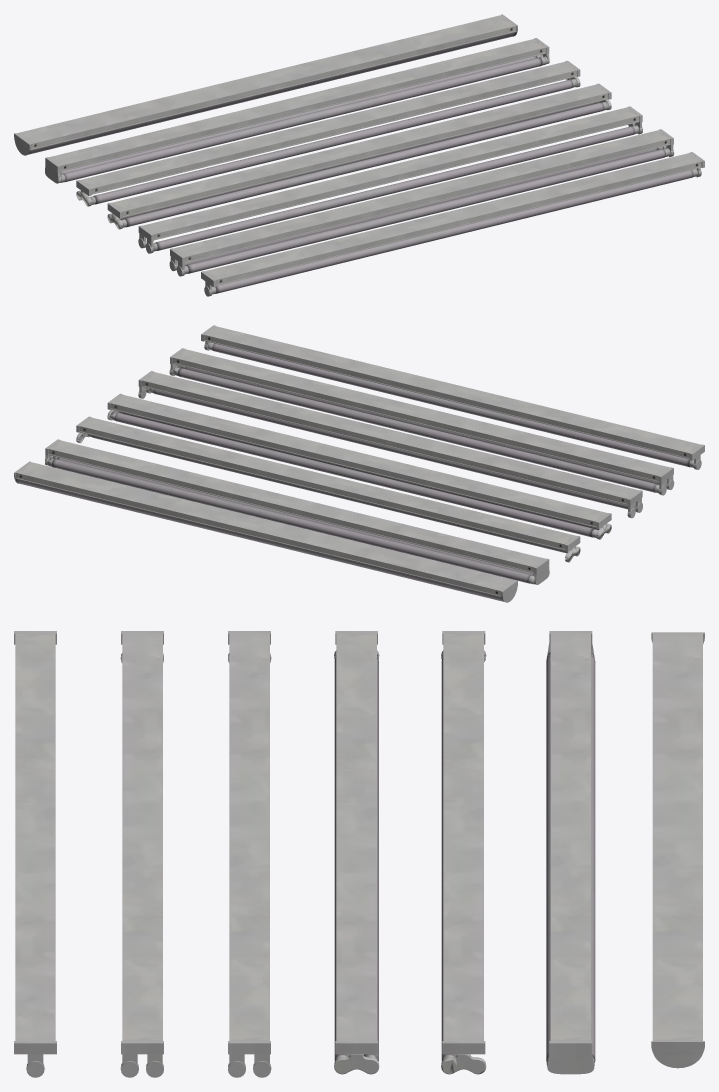
The model's file is fluorescent.glb.
The picture shows the model from 3 angles, top to bottom: view 1: azimuth 30°, elevation 25°; view 2: azimuth 150°, elevation 25°; view 3: azimuth 270°, elevation 25°; orthographic projection. The views are drawn at different scales.
Parts seen in each view (by area): view 1: mounted_fluorescent_lights_a; view 2: mounted_fluorescent_lights_a; view 3: mounted_fluorescent_lights_a.
Boxes of the visible parts, bbox=[...] form: mounted_fluorescent_lights_a: bbox=[14, 14, 704, 296]; mounted_fluorescent_lights_a: bbox=[14, 325, 704, 602]; mounted_fluorescent_lights_a: bbox=[14, 631, 704, 1077].
Bounding box in the file's own units: 0.9122 × 0.0353 × 0.6455.
2 materials, 2 textured.
